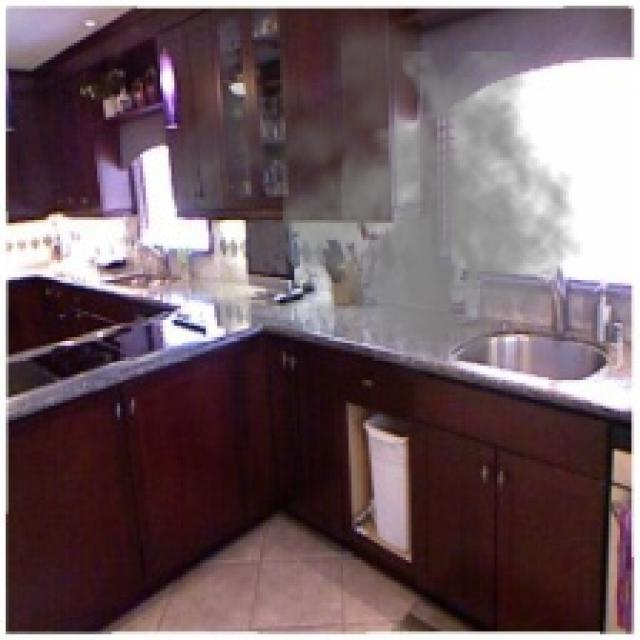Smoke: (174, 6, 583, 388)
